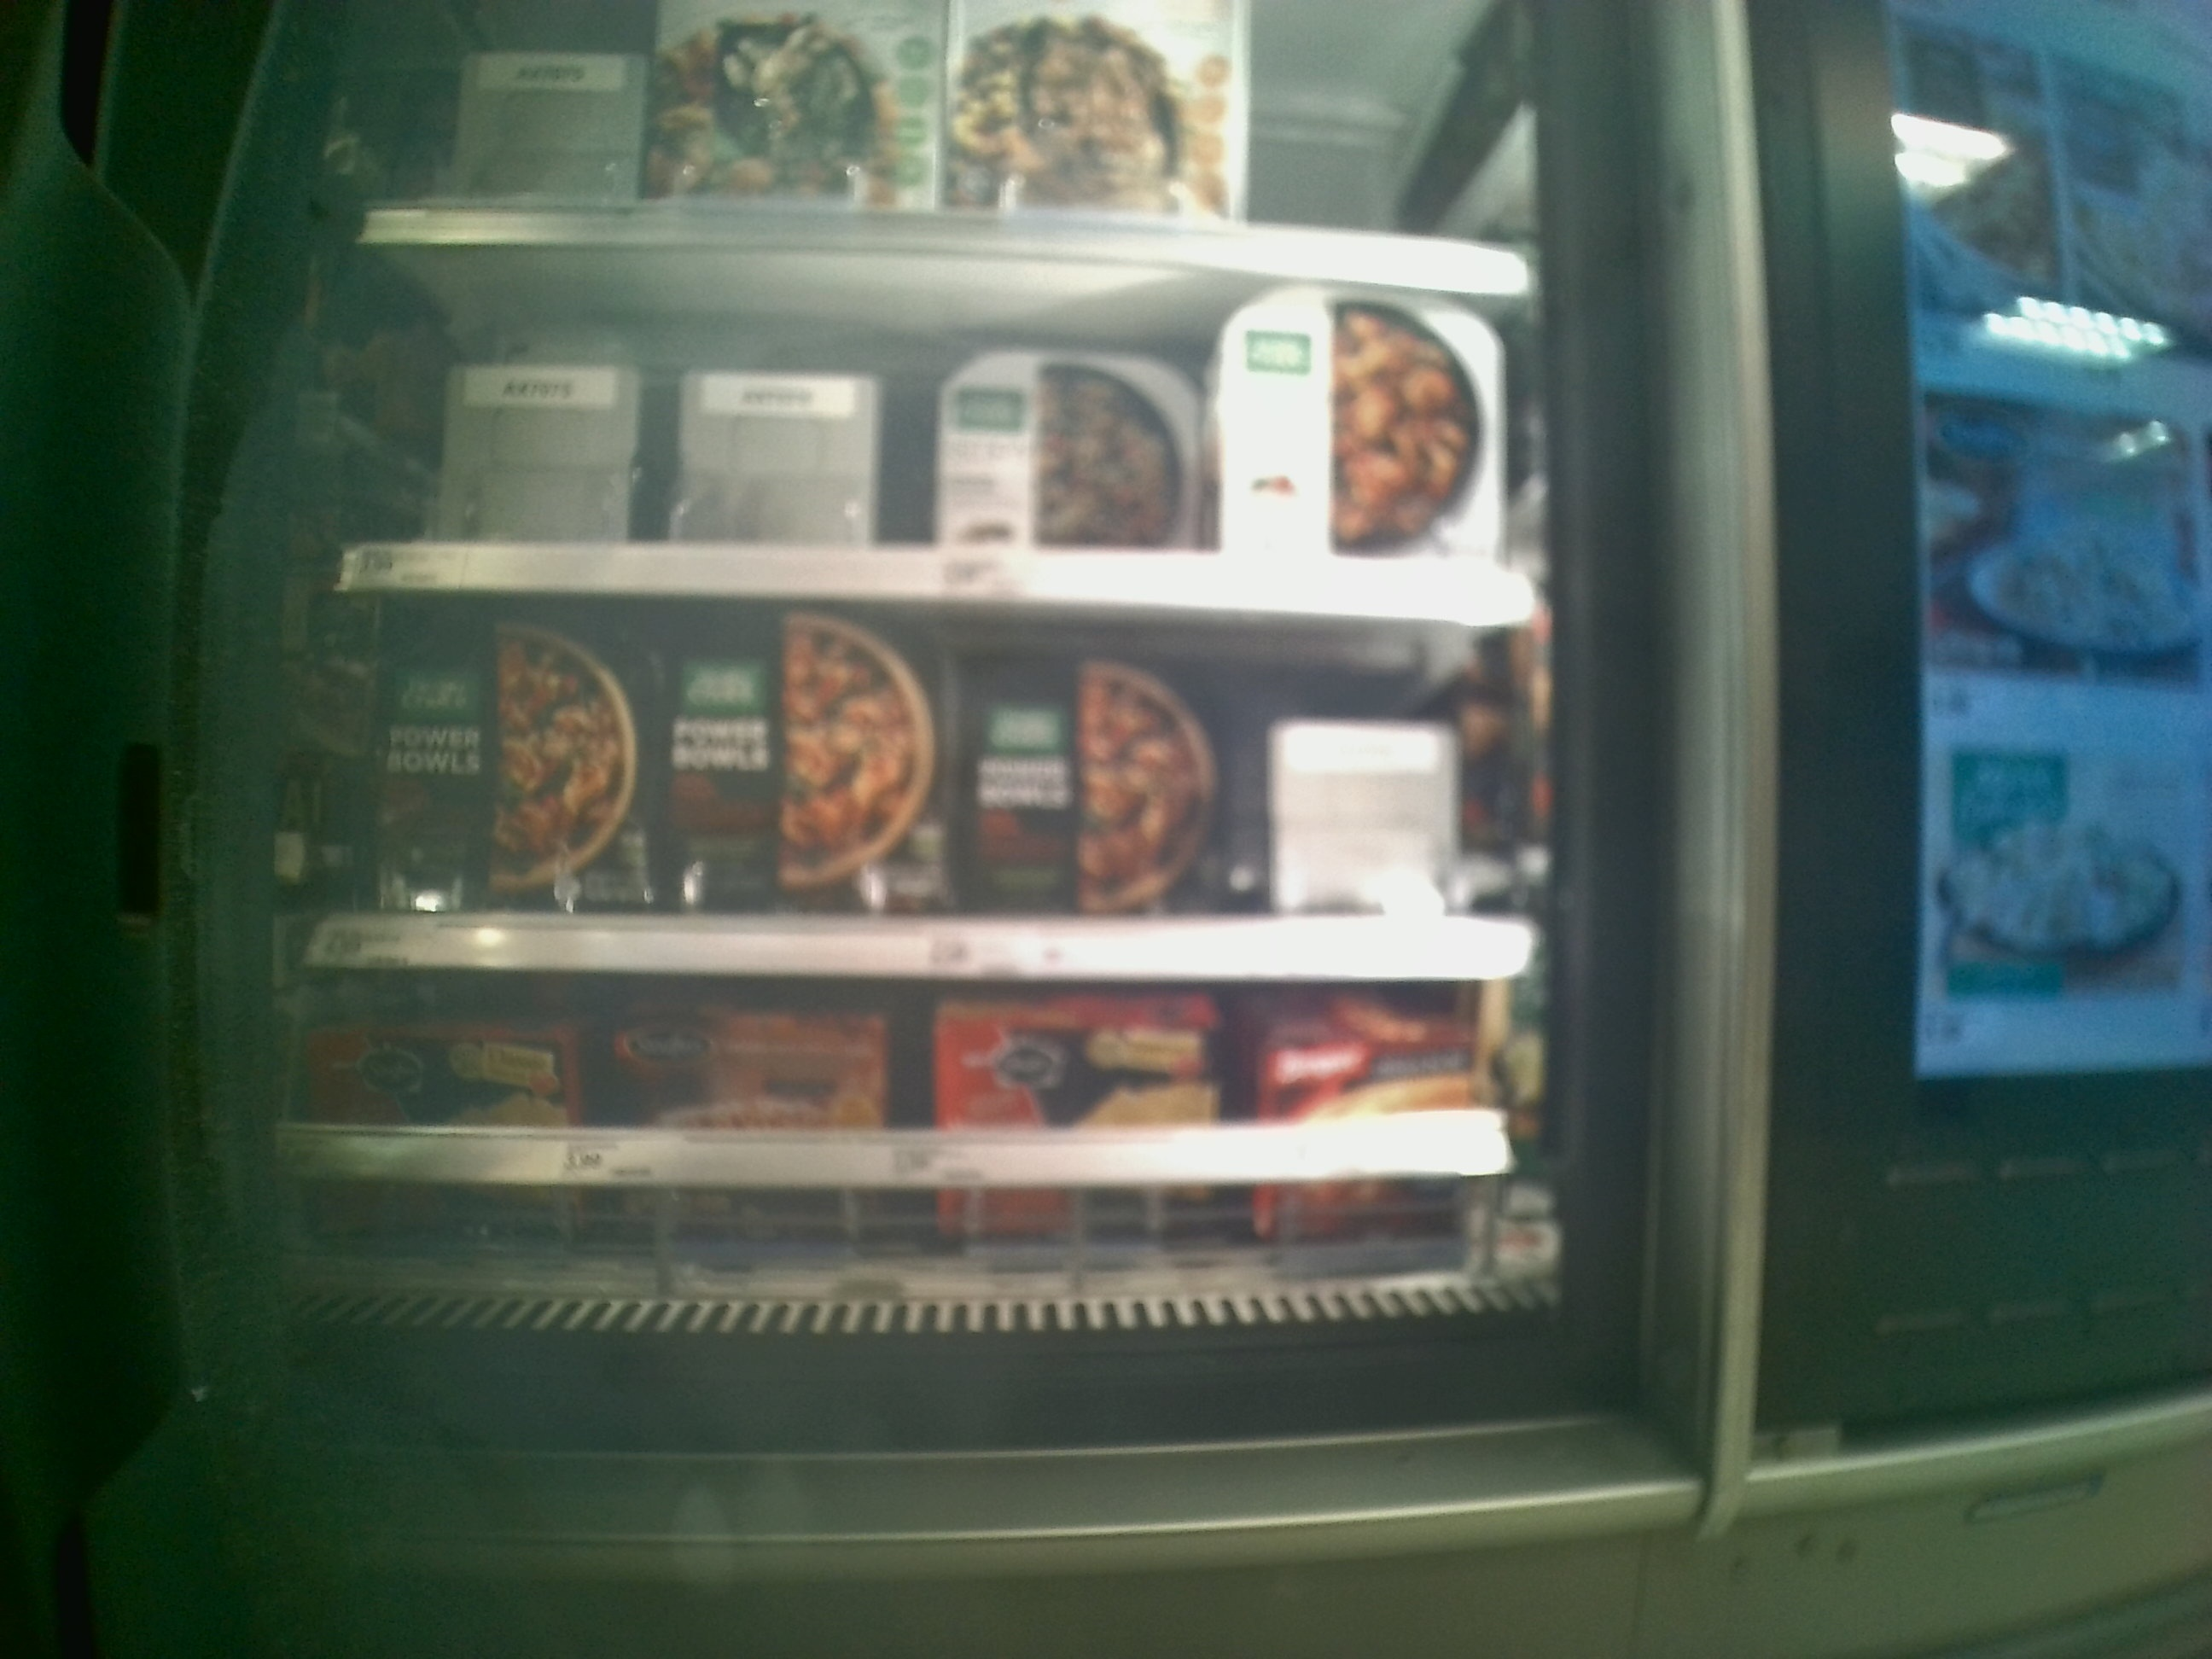shelf: (324, 592, 1529, 983), (340, 225, 1533, 617), (289, 979, 1583, 1314)
